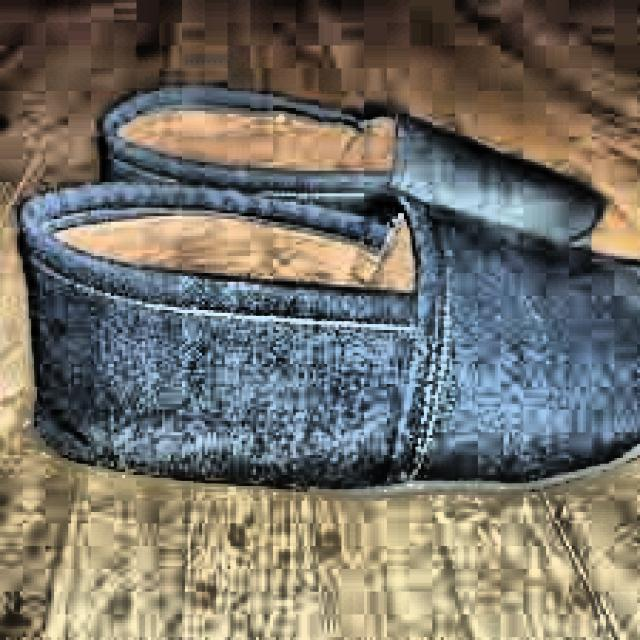shoes: (8, 23, 640, 533)
